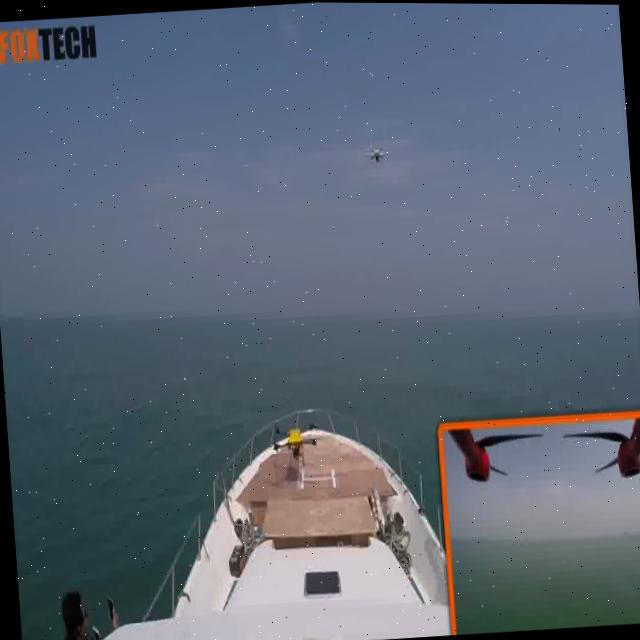drone: (257, 394, 332, 460), (363, 137, 392, 175)
